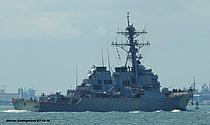MIL_Ship: (10, 22, 194, 114)
